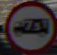Heavy Vehicles: (5, 2, 53, 45)
